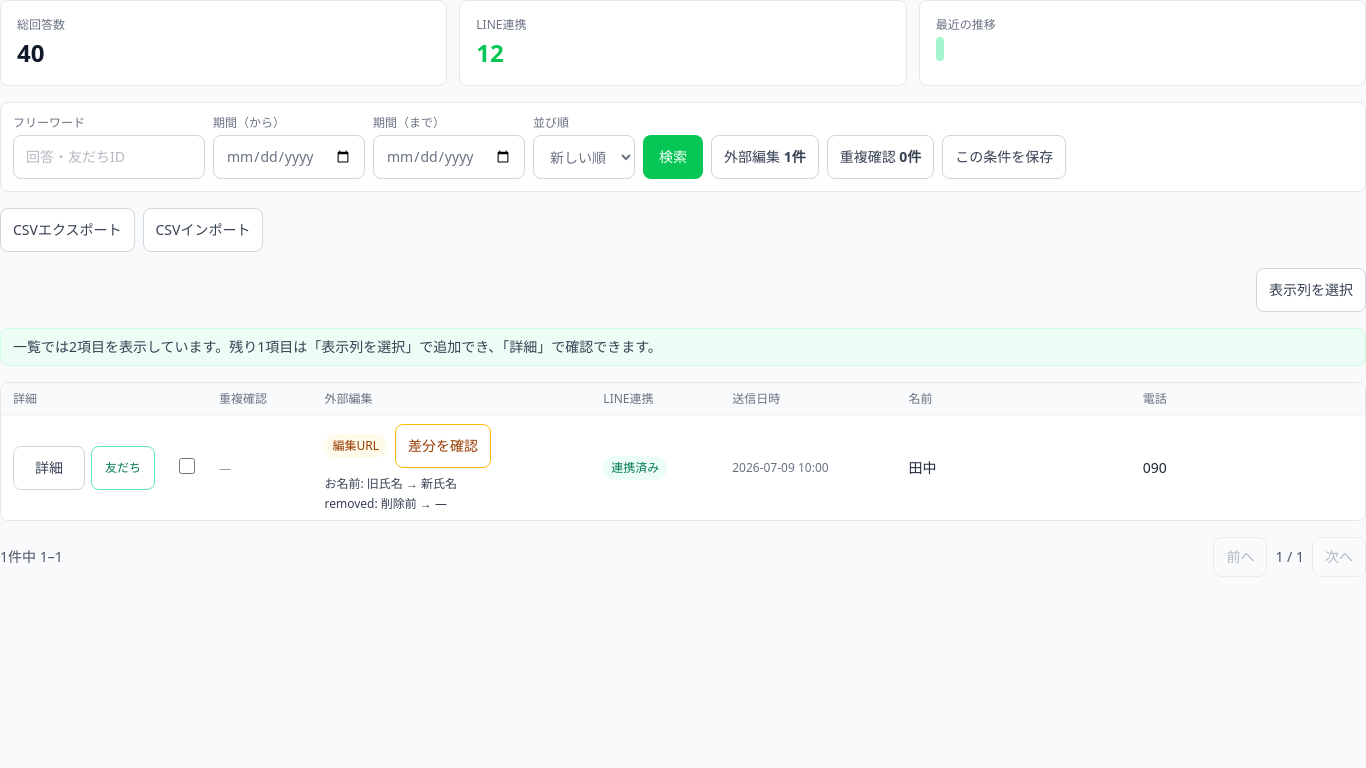
DataCockpit — 外部編集レビュー (D-3) › 確認ボタンの初回クリックでは API を呼ばず、反映済みの説明と経路・日時・全差分を表示する
Click the button with aria-label "s1 の外部編集を確認" at (443, 446), box [395, 424, 491, 468]
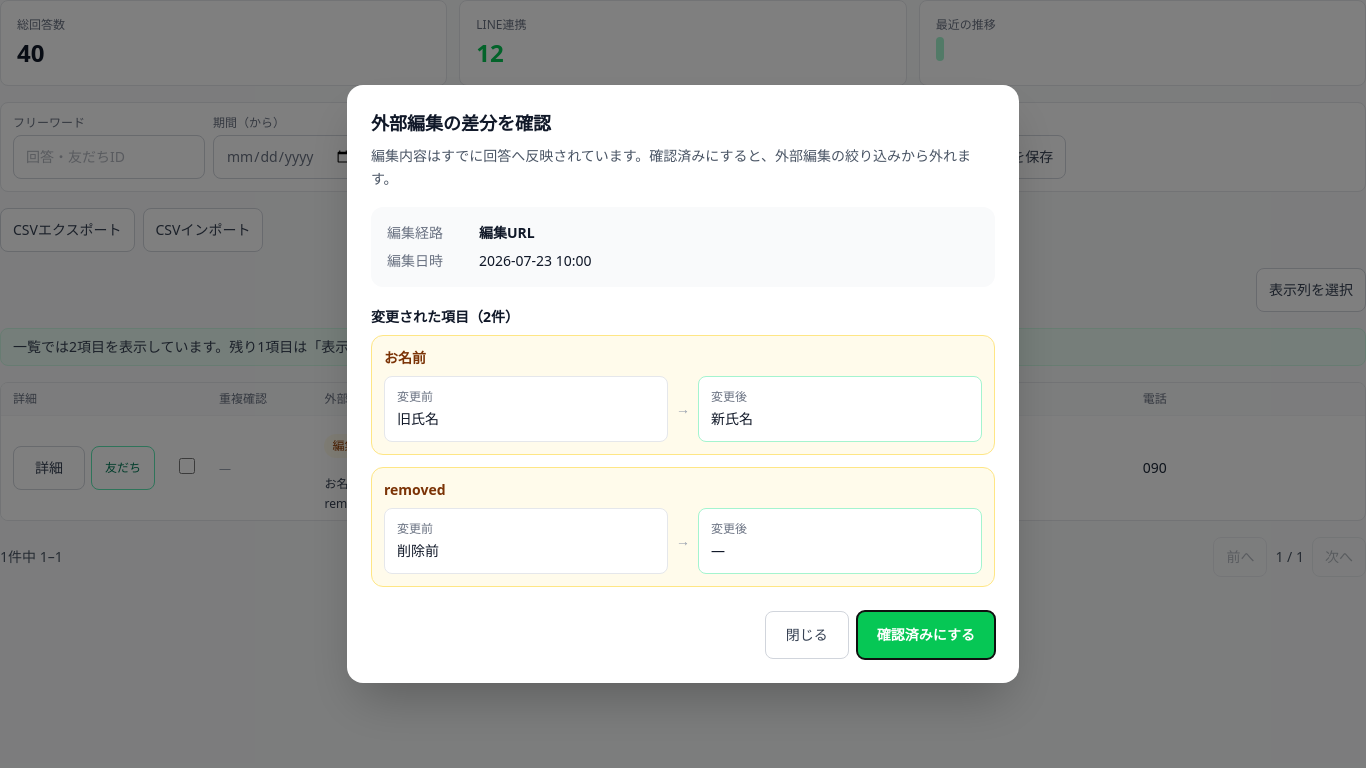
Expected: the text "編集内容はすでに回答へ反映されています。確認済みにすると、外部編集の絞り込みから外れます。" is shown, [371, 145, 995, 191]
Expected: the button "確認済みにする" is shown, [857, 611, 995, 659]
Expected: the text "編集URL" is shown, [479, 223, 535, 242]
